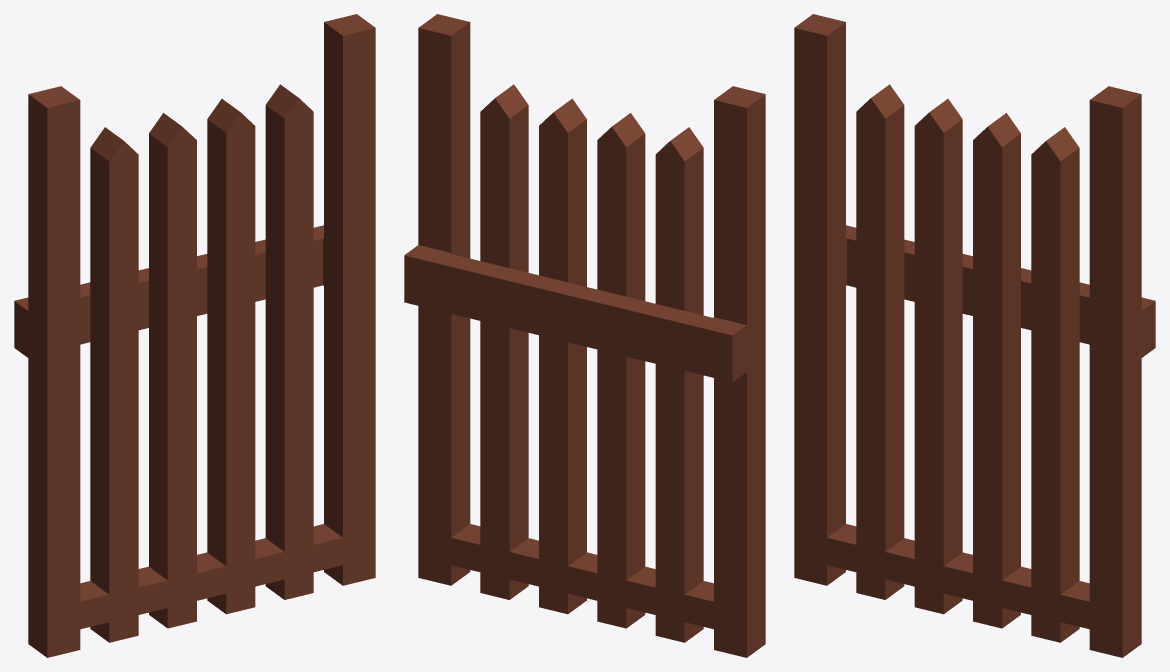
The model's file is Picket Fence Full Tall.fbx.
The picture shows the model from 3 angles, left to right: view 1: azimuth 30°, elevation 25°; view 2: azimuth 150°, elevation 25°; view 3: azimuth 330°, elevation 25°; orthographic projection.
Parts seen in each view (by area): view 1: Picket Fence Full Tall; view 2: Picket Fence Full Tall; view 3: Picket Fence Full Tall.
Boxes of the visible parts, x1,y1,x2,y2 form: Picket Fence Full Tall: [14, 14, 375, 657]; Picket Fence Full Tall: [404, 14, 765, 657]; Picket Fence Full Tall: [794, 14, 1155, 657].
Size of the model in its own units: 100 by 160 by 17.5.
